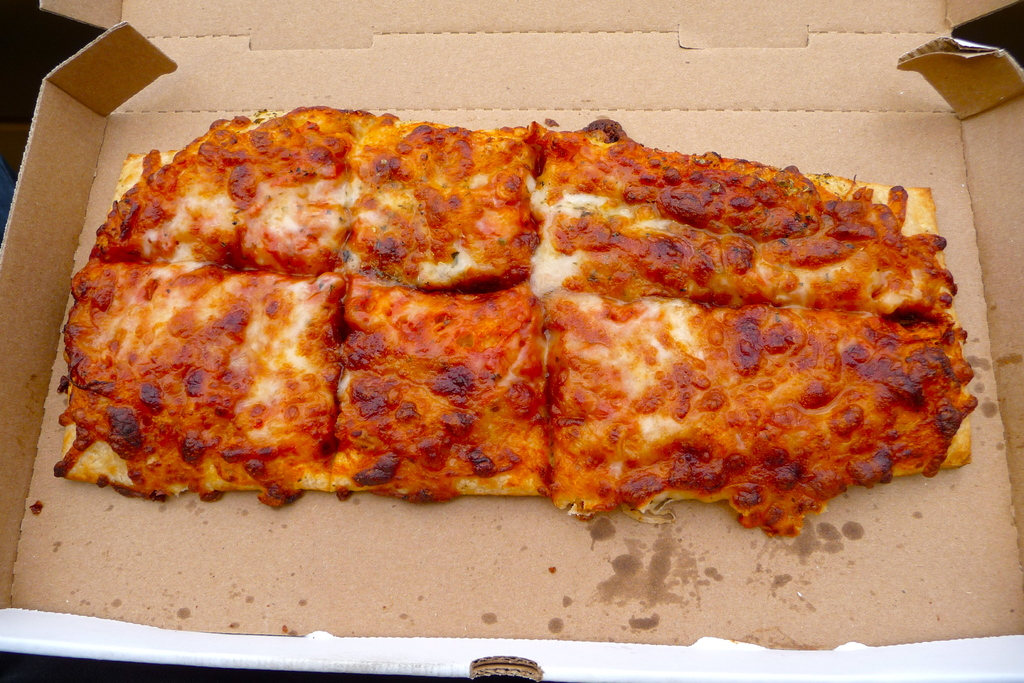Pizza: (55, 114, 999, 547)
